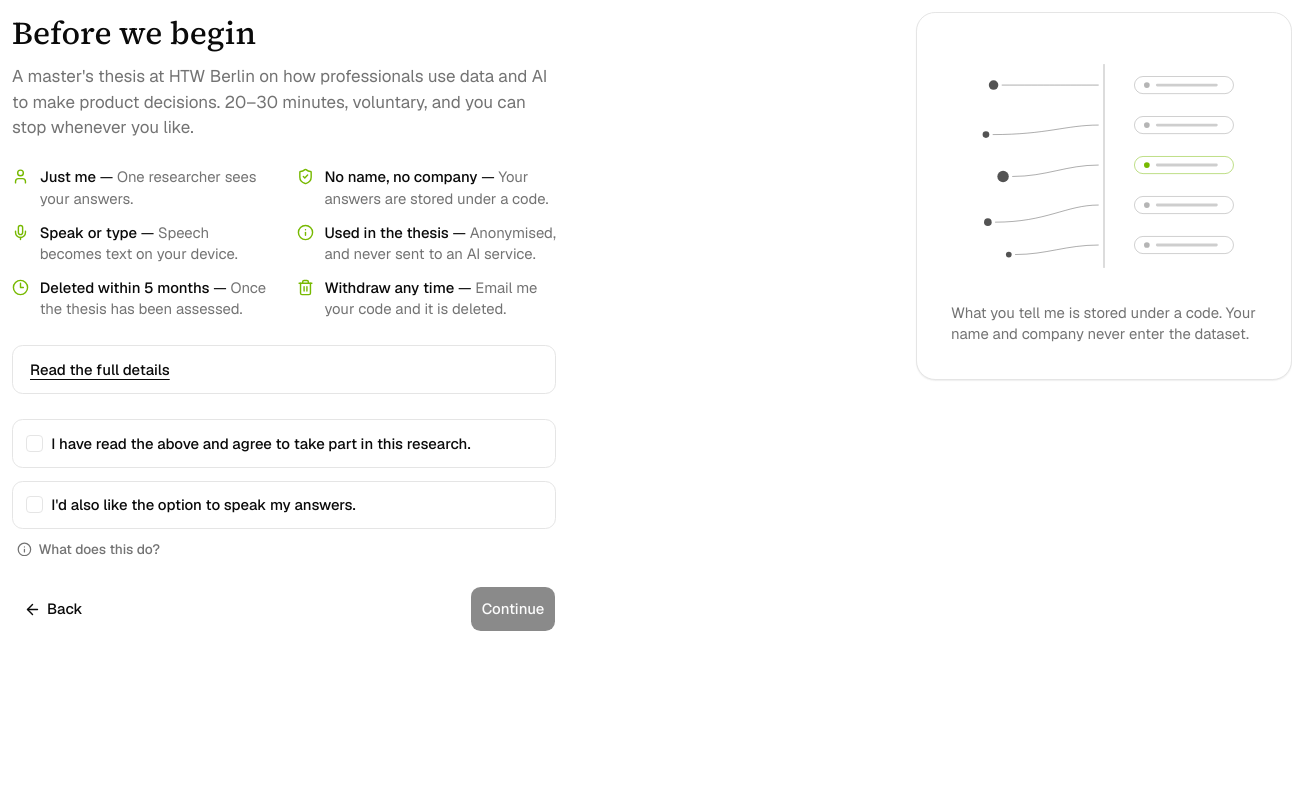
Test: ConsentScreen › keeps Continue disabled until participation is agreed
Check: the button "Continue" is disabled, box [470,586,556,632]
# Agreeing to speech alone must not unlock the interview.
Click the 2nd checkbox named "speak my answers".
click(34, 505)  # box [26,496,43,514]
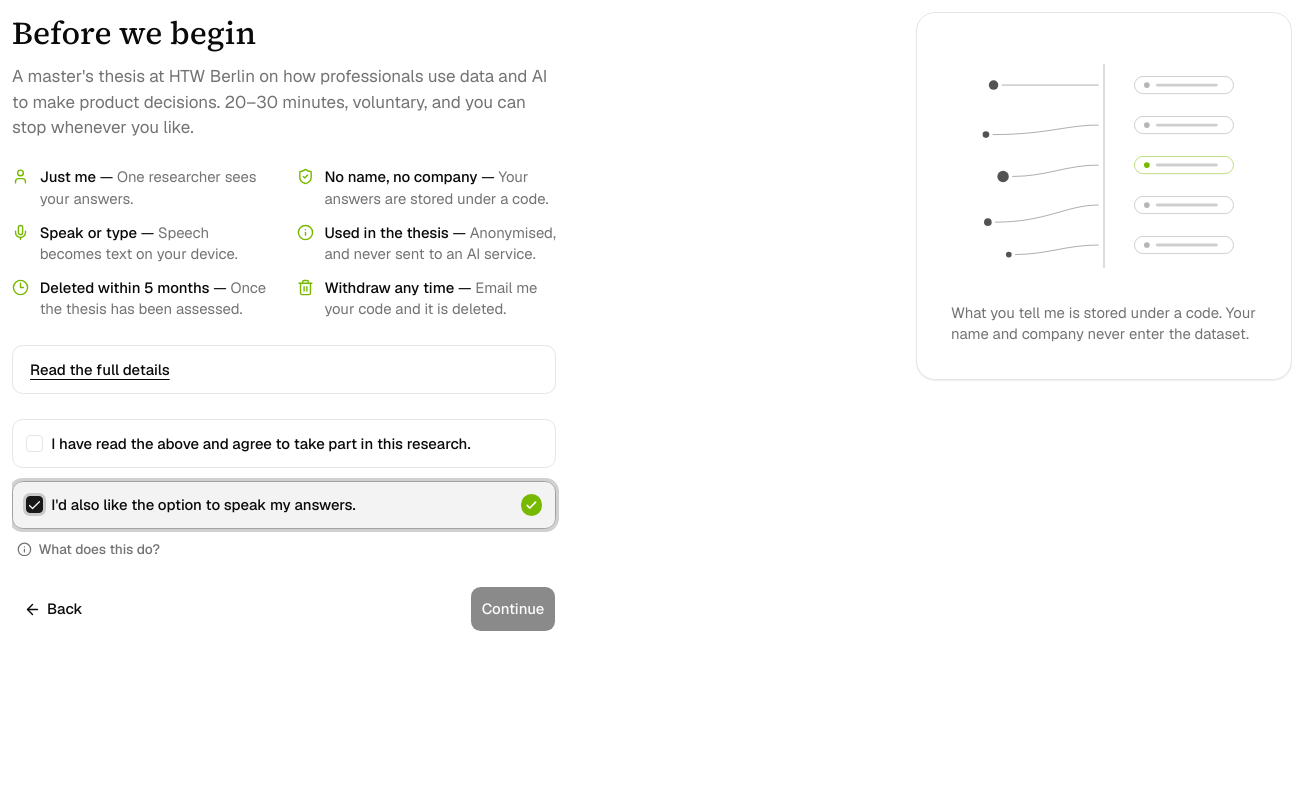
Check: the button "Continue" is disabled, box [470,586,556,632]
Click the 1st checkbox named "agree to take part".
click(34, 444)  # box [26,435,43,452]
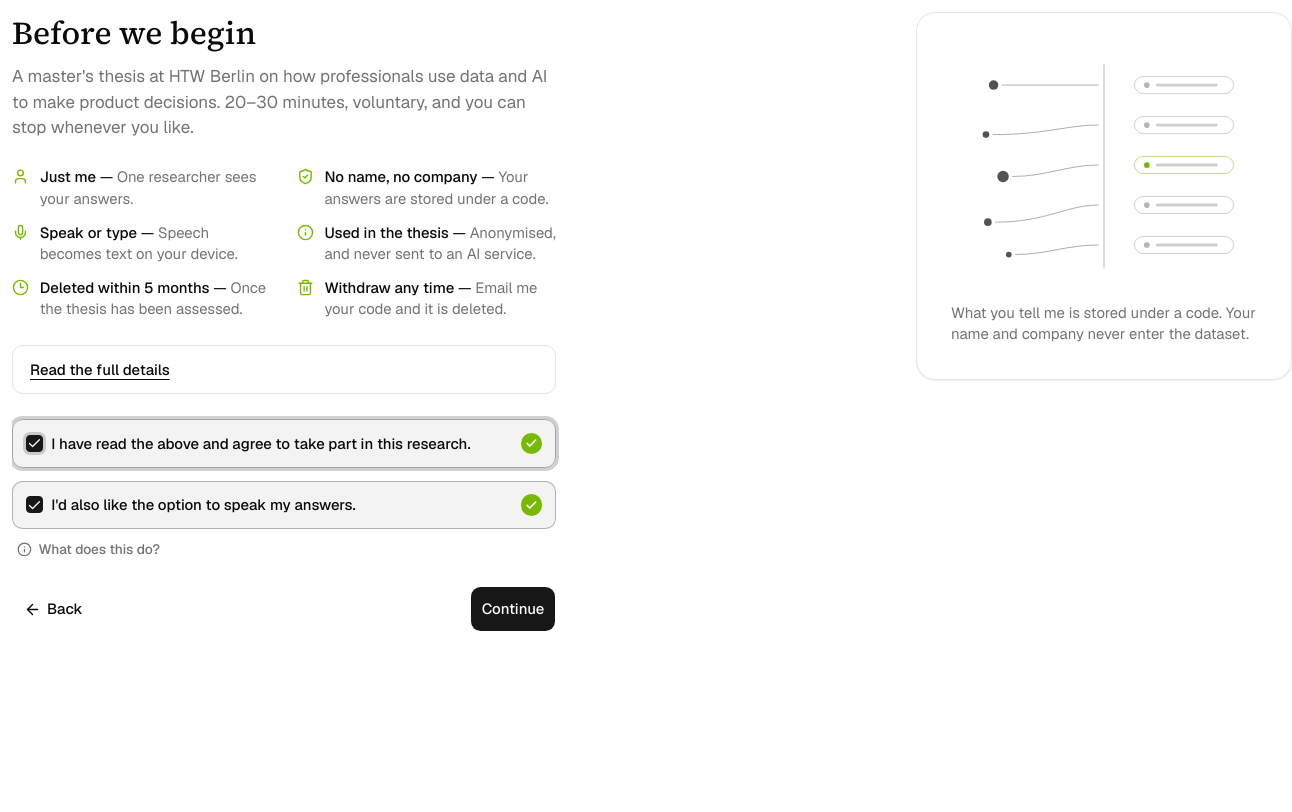
Check: the button "Continue" is enabled, box [470,586,556,632]
